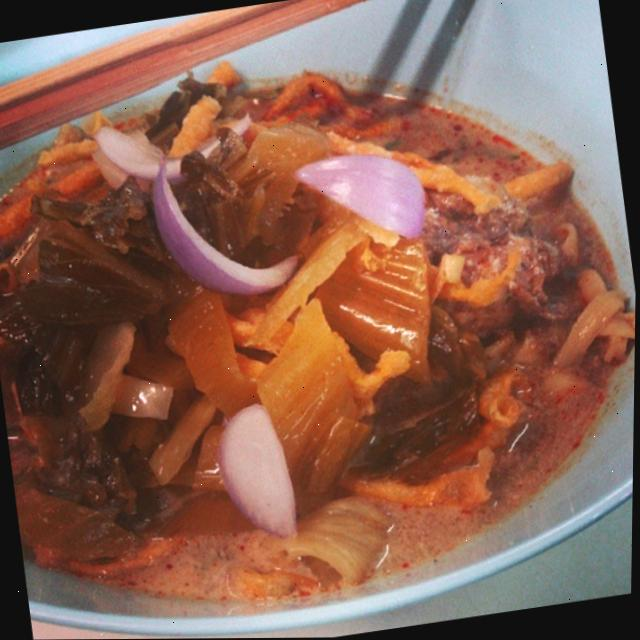面条主食: (0, 5, 640, 640)
